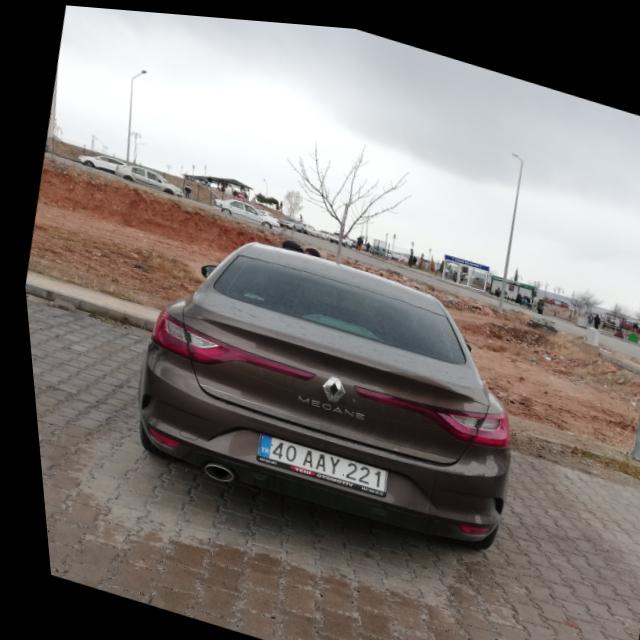license_plate: (246, 428, 381, 488)
